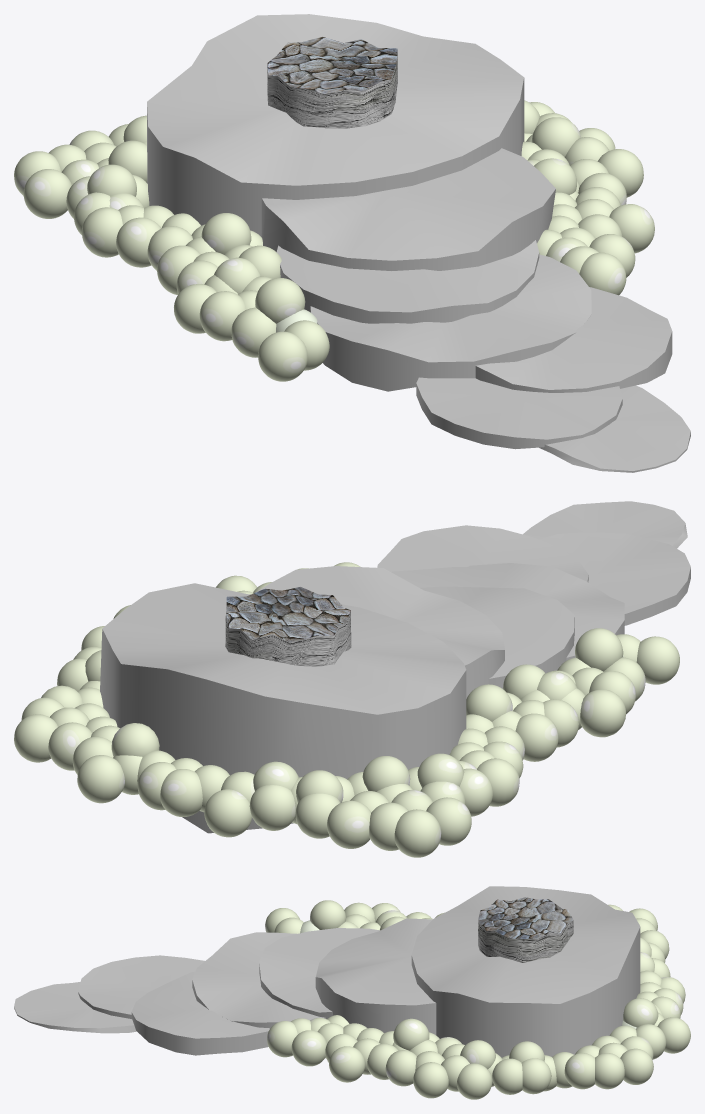
The model's file is Alter Coloured 1.fbx.
3 renders of one model, top to bottom at view 1: azimuth 30°, elevation 25°; view 2: azimuth 150°, elevation 25°; view 3: azimuth 270°, elevation 25°, orthographic. The views are drawn at different scales.
Parts seen in each view (by area): view 1: Egg3; view 2: Egg3; view 3: Egg3.
Boxes of the visible parts, <box> form: Egg3: <box>14,14,690,472</box>; Egg3: <box>14,501,690,857</box>; Egg3: <box>14,886,690,1099</box>.
Bounding box in the file's own units: 1259 × 421 × 2046.
